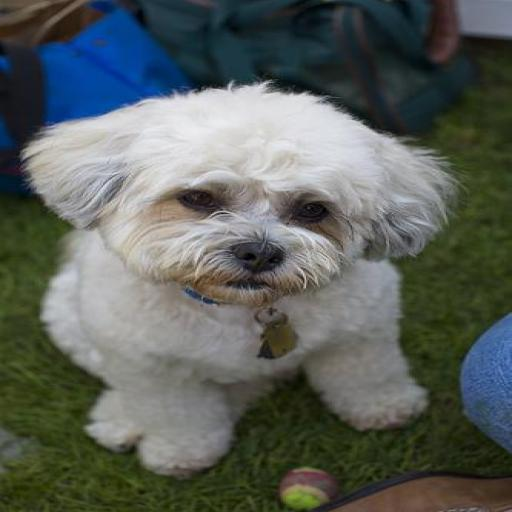dog_face: (38, 87, 402, 292)
